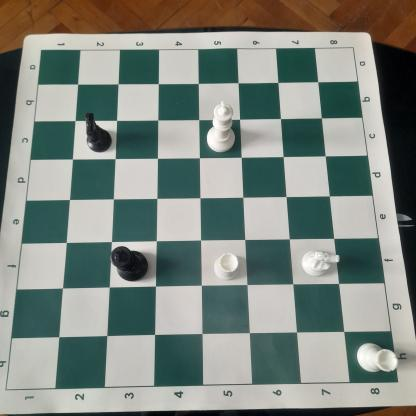black-king: (108, 241, 150, 284)
black-knight: (82, 110, 114, 154)
white-king: (200, 97, 240, 156)
white-knight: (298, 248, 341, 279)
white-rook: (354, 341, 399, 378), (208, 248, 244, 282)
